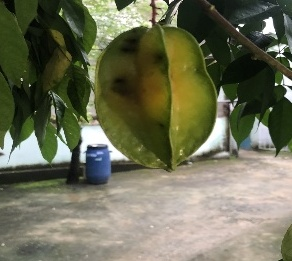Khe: (91, 25, 222, 172)
